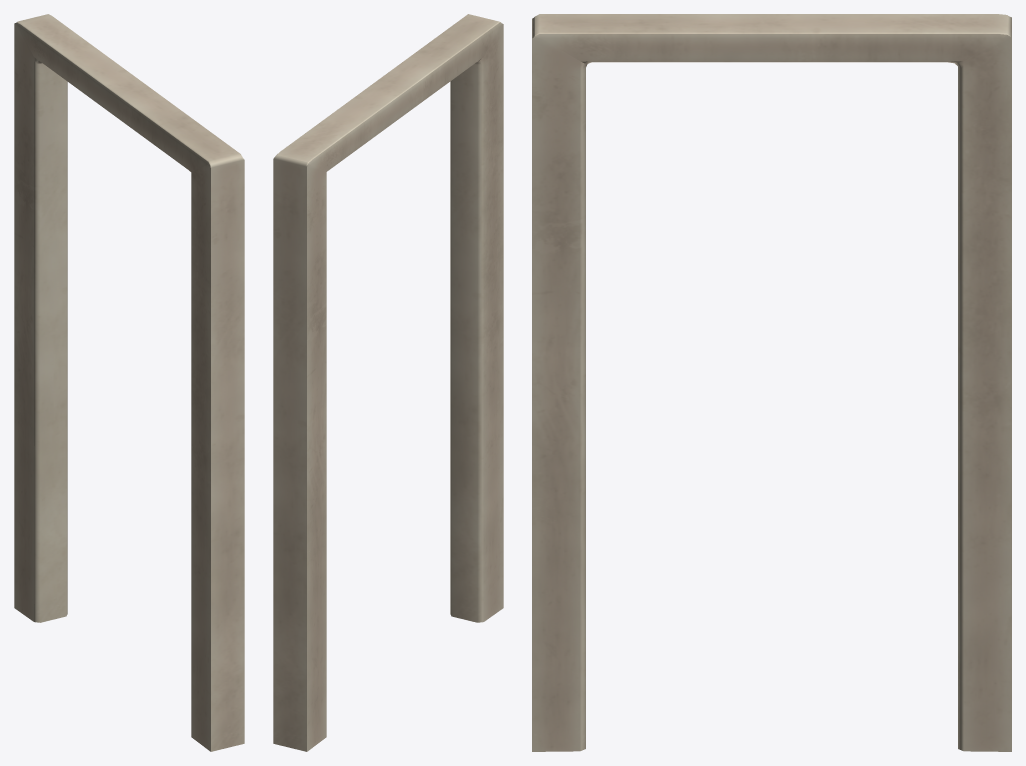
File: door.glb
3 views of the same model, side by side, from view 1: azimuth 30°, elevation 25°; view 2: azimuth 150°, elevation 25°; view 3: azimuth 270°, elevation 25° (orthographic). The views are drawn at different scales.
Visible parts, largest first — view 1: polySurface7; view 2: polySurface7; view 3: polySurface7.
Part boxes in pixels (x1,y1,x2,y2): polySurface7: (14,14,244,751); polySurface7: (273,14,503,751); polySurface7: (532,14,1011,751).
Bounding box in the file's own units: 43.22 × 722 × 437.
Materials: 1 (1 with a texture image).
